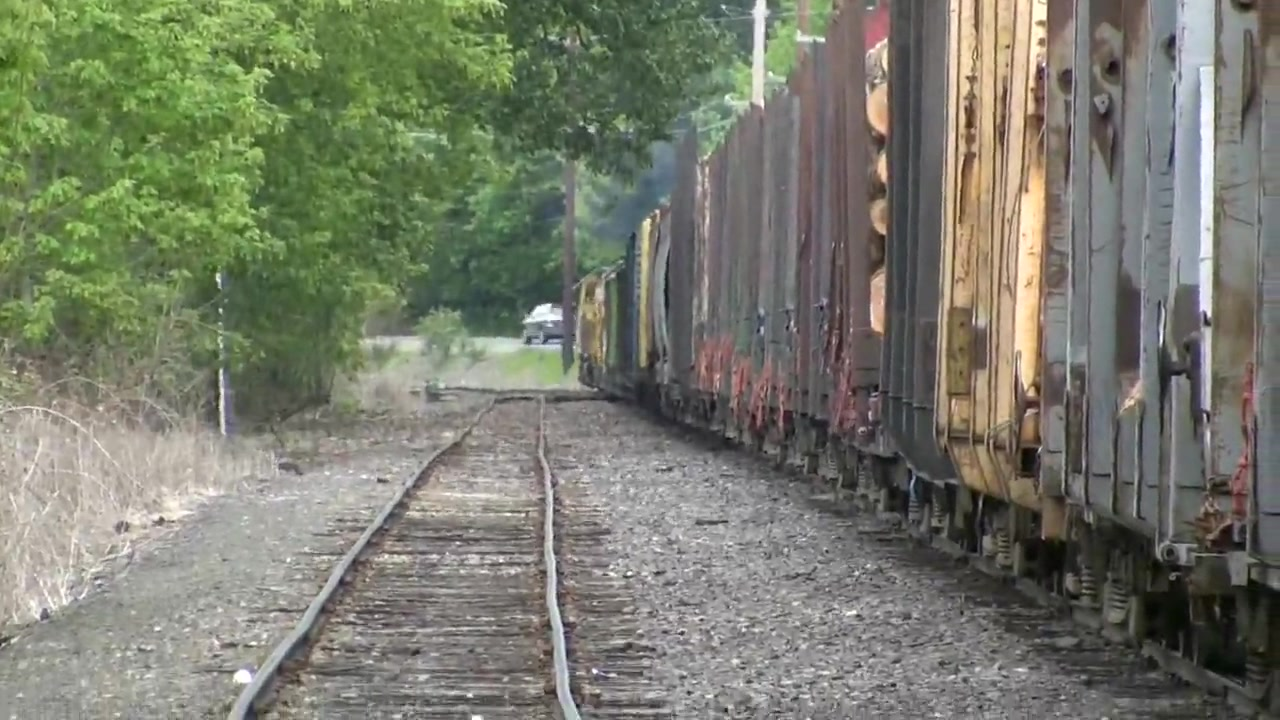train: (576, 1, 1280, 719)
